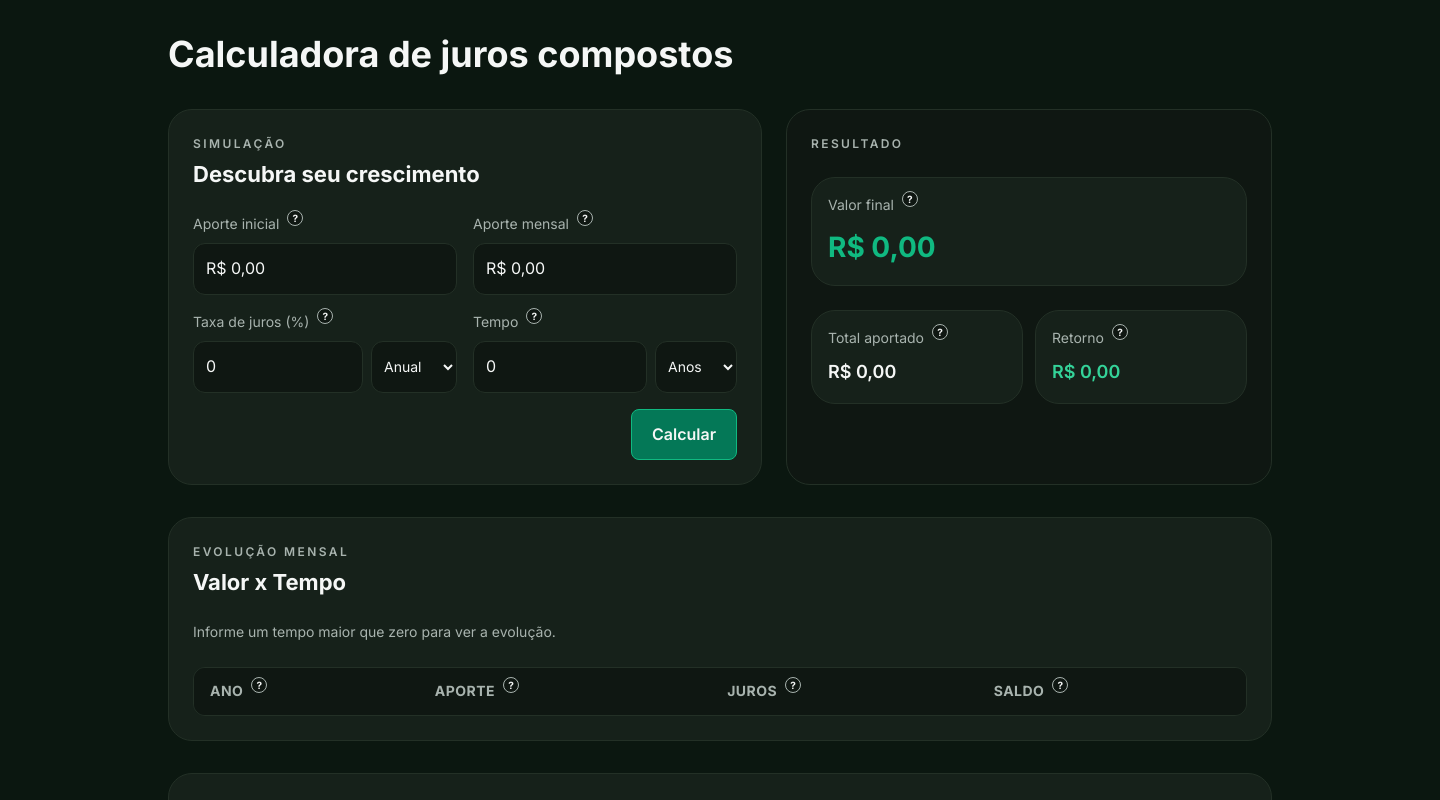
Test case: CompoundInterestCalculator › shows an error when a decimal field has an invalid format
This screenshot has width=1440, height=800.
Replace the text in the field labelled "Tempo" with "dois anos" at (560, 367), box x1=473 y1=341 x2=647 y2=393
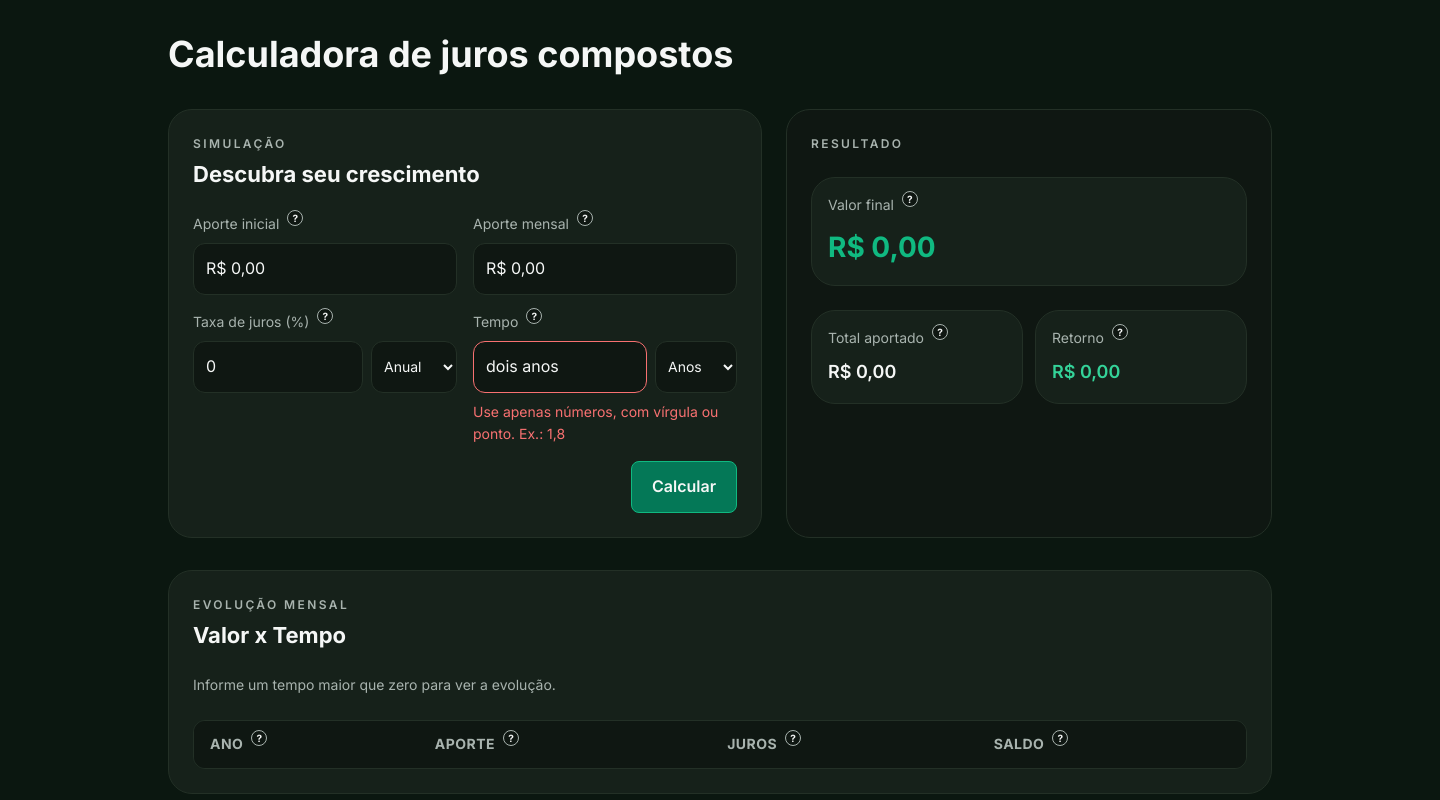
Now the message reads "Use apenas números, com vírgula ou ponto. Ex.: 1,8", box x1=473 y1=403 x2=718 y2=442
